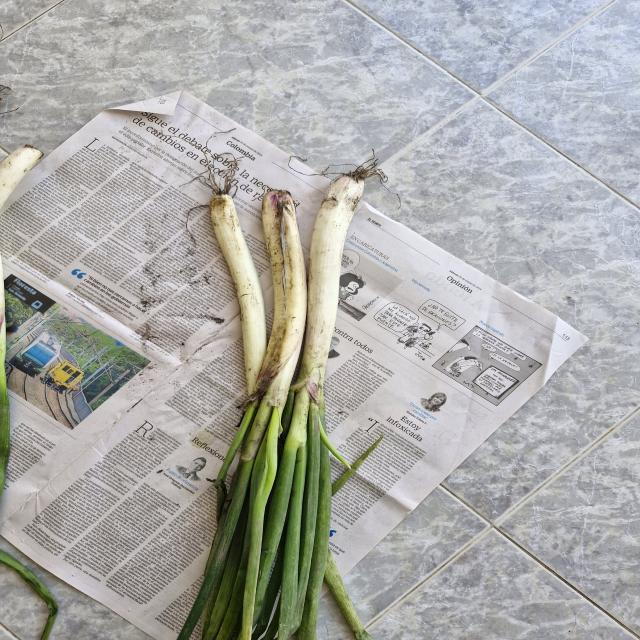green_onion: (245, 158, 373, 640), (192, 187, 270, 640)
